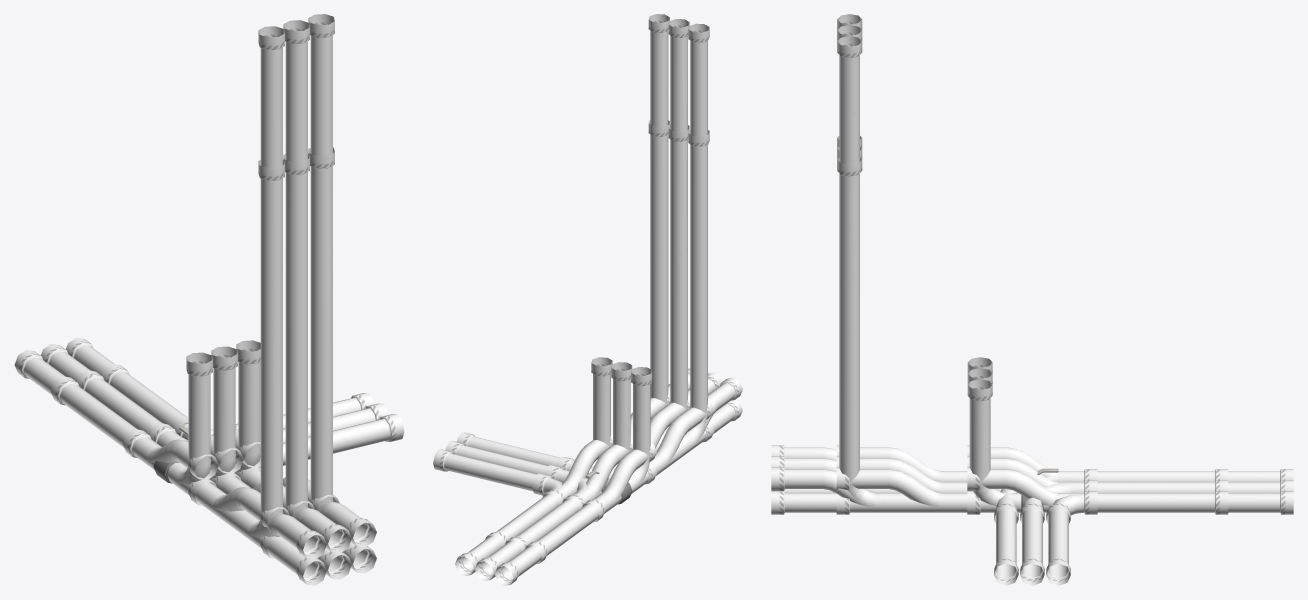
The model's file is SmallPipes3.fbx.
The picture shows the model from 3 angles, left to right: view 1: azimuth 30°, elevation 25°; view 2: azimuth 150°, elevation 25°; view 3: azimuth 270°, elevation 25°; orthographic projection. The views are drawn at different scales.
Parts seen in each view (by area): view 1: 3-4m_Corner, 3-3m_Corner, 4m, 1-1m_Corner, 4m_Over, 3m_Over, 3-3m_Turn, 1m_Over, 3m_Valve, 1m, 3m, 1m_Valve (+1 smaller); view 2: 3-3m_Corner, 3-4m_Corner, 4m, 1-1m_Corner, 3-3m_Turn, 3m_Over, 1m_Over, 4m_Over, 1-1m_Turn, 3m_Valve, 3m, 1m_Valve; view 3: 3-3m_Corner, 3-4m_Corner, 4m, 3-3m_Turn, 3m_Over, 1-1m_Corner, 4m_Over, 1m_Over, 3m, 1-1m_Turn, 3m_Valve.
Part boxes in pixels (left/top/right/bottom): 3-4m_Corner: left=258, top=14, right=334, bottom=518; 3-3m_Corner: left=50, top=147, right=334, bottom=539; 4m: left=14, top=337, right=376, bottom=585; 1-1m_Corner: left=123, top=340, right=260, bottom=484; 4m_Over: left=14, top=356, right=376, bottom=559; 3m_Over: left=60, top=373, right=339, bottom=531; 3-3m_Turn: left=61, top=372, right=404, bottom=467; 1m_Over: left=133, top=426, right=260, bottom=480; 3m_Valve: left=66, top=370, right=258, bottom=546; 1m: left=122, top=416, right=260, bottom=505; 3m: left=61, top=372, right=275, bottom=558; 1m_Valve: left=136, top=423, right=239, bottom=489; 3-3m_Corner: left=485, top=120, right=709, bottom=564; 3-4m_Corner: left=648, top=14, right=709, bottom=413; 4m: left=455, top=399, right=742, bottom=585; 1-1m_Corner: left=542, top=357, right=652, bottom=522; 3-3m_Turn: left=433, top=432, right=575, bottom=548; 3m_Over: left=496, top=391, right=714, bottom=550; 1m_Over: left=562, top=433, right=656, bottom=506; 4m_Over: left=455, top=368, right=742, bottom=583; 1-1m_Turn: left=532, top=456, right=611, bottom=508; 3m_Valve: left=505, top=432, right=706, bottom=551; 3m: left=498, top=422, right=714, bottom=553; 1m_Valve: left=562, top=470, right=649, bottom=509; 3-3m_Corner: left=837, top=136, right=1228, bottom=514; 3-4m_Corner: left=837, top=14, right=862, bottom=481; 4m: left=771, top=469, right=1293, bottom=514; 3-3m_Turn: left=994, top=471, right=1214, bottom=585; 3m_Over: left=836, top=445, right=1212, bottom=511; 1-1m_Corner: left=967, top=357, right=1097, bottom=514; 4m_Over: left=771, top=445, right=1293, bottom=514; 1m_Over: left=967, top=445, right=1083, bottom=506; 3m: left=836, top=471, right=1214, bottom=514; 1-1m_Turn: left=994, top=469, right=1097, bottom=523; 3m_Valve: left=850, top=471, right=1228, bottom=512.
Size of what is drawn, in the model's own units: 180 by 400 by 400.
6 materials, 6 textured.
